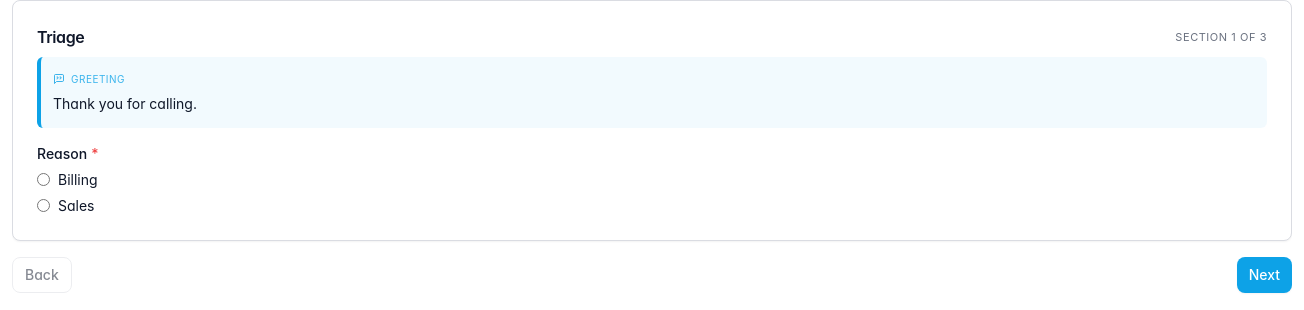
Test: FormRunner — branching + validation › end_with_outcome short-circuits the runner
This screenshot has width=1304, height=310.
Later steps or results of the test are not shown.
Click the radio button labelled "Sales". click: point(44, 206)
box: top-left (37, 199), bottom-right (50, 212)
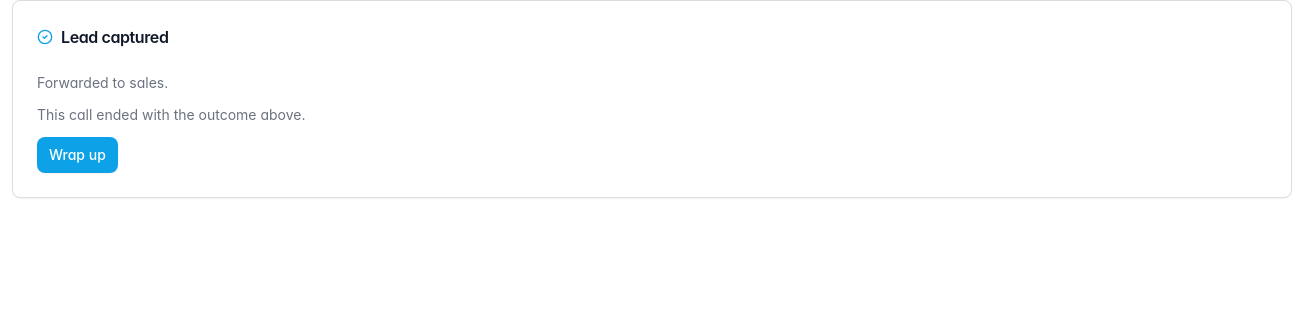
Expected: the text "Lead captured" is shown, top-left (37, 27), bottom-right (168, 47)
